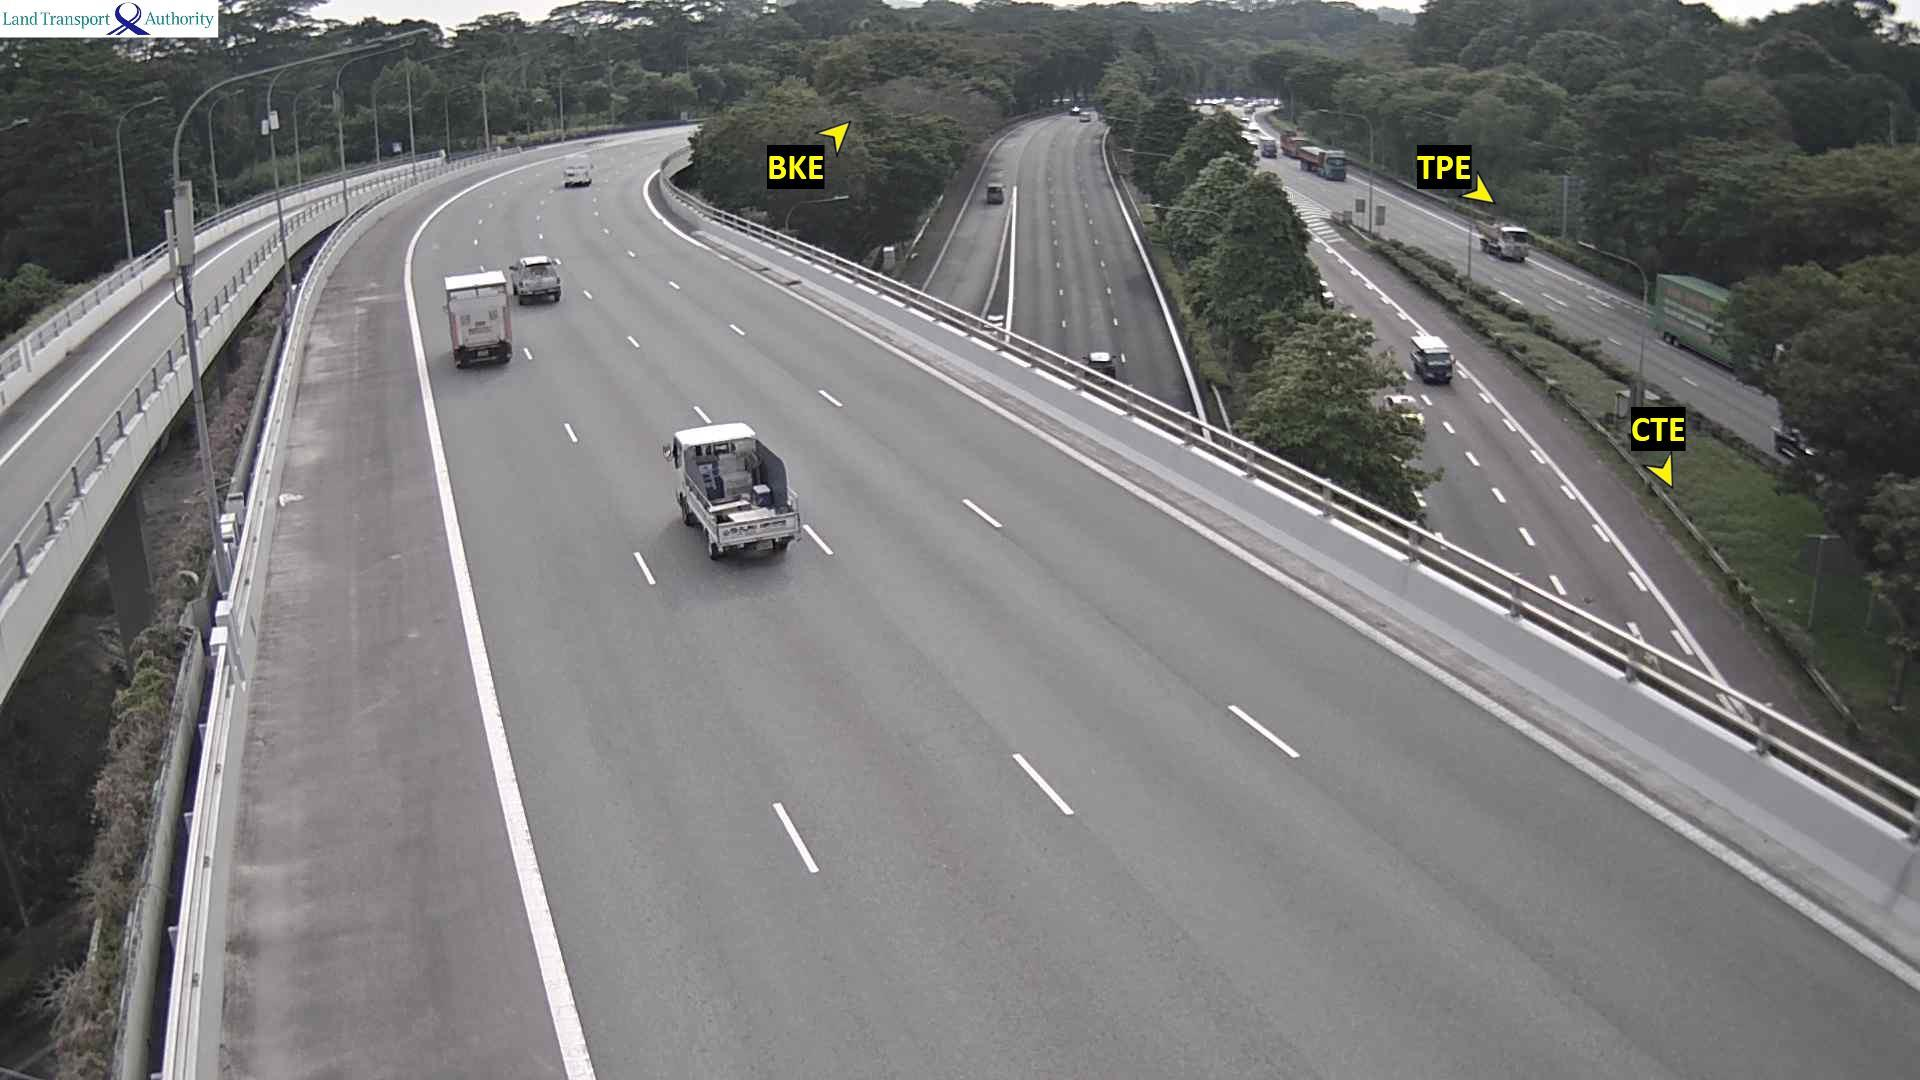cars: (508, 254, 562, 304), (1409, 332, 1455, 384), (1376, 390, 1425, 435), (1772, 421, 1815, 461), (1086, 349, 1124, 380), (561, 157, 591, 187), (1317, 277, 1338, 310), (217, 511, 237, 543), (985, 182, 1003, 203), (1079, 109, 1094, 122), (1069, 103, 1082, 115)
trucks: (661, 421, 800, 560), (1653, 271, 1783, 380), (443, 267, 512, 368), (1477, 220, 1531, 261), (1298, 146, 1355, 180), (1259, 137, 1277, 157)
